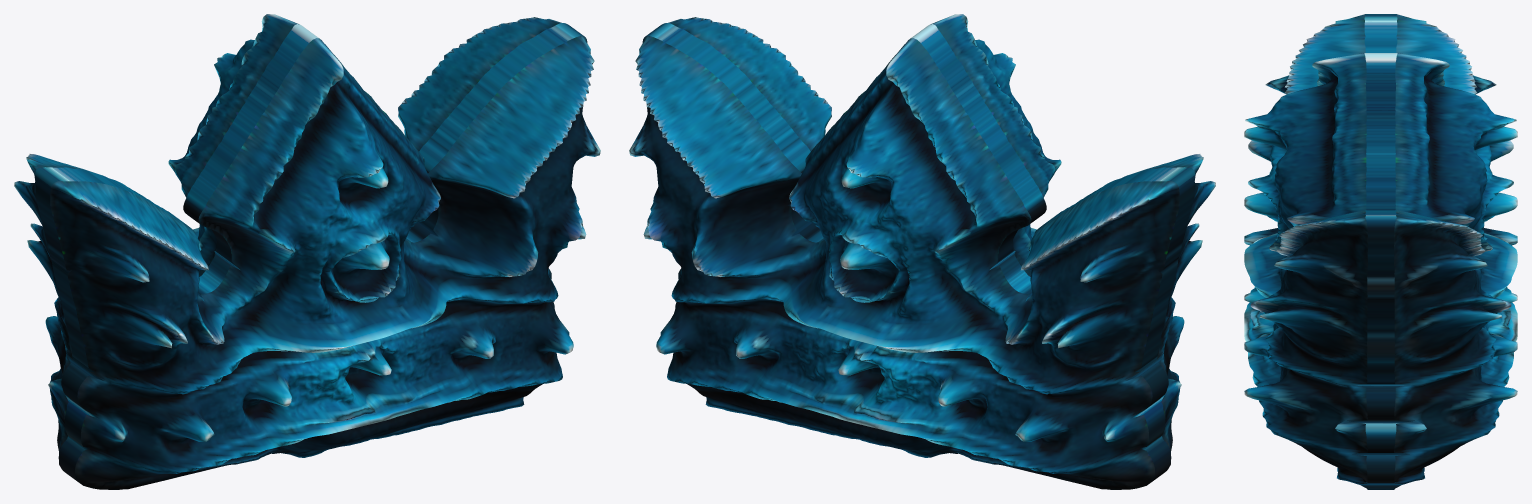
File: iconCorona.glb
The picture shows the model from 3 angles, left to right: view 1: azimuth 30°, elevation 25°; view 2: azimuth 150°, elevation 25°; view 3: azimuth 270°, elevation 25°; orthographic projection. The views are drawn at different scales.
Visible parts, largest first — view 1: crown; view 2: crown; view 3: crown.
Part boxes in pixels (x1=…): crown: x1=14, y1=14, x2=600, y2=489; crown: x1=629, y1=14, x2=1215, y2=489; crown: x1=1244, y1=14, x2=1517, y2=489.
Size of the model in its own units: 1.4 by 1.02 by 0.7222.
Materials: 1 (1 with a texture image).
